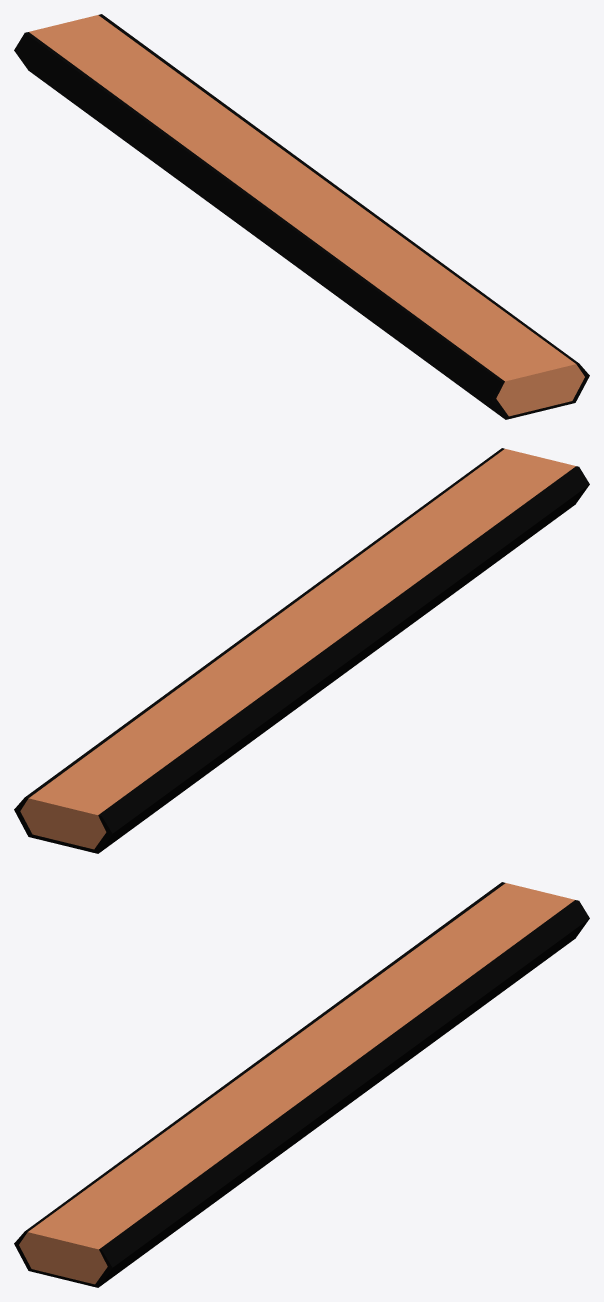
File: Wood bridge.fbx
3 views of the same model, one above another, from view 1: azimuth 30°, elevation 25°; view 2: azimuth 150°, elevation 25°; view 3: azimuth 330°, elevation 25° (orthographic).
Parts seen in each view (by area): view 1: Cylinder; view 2: Cylinder; view 3: Cylinder.
Boxes of the visible parts, x1,y1,x2,y2 form: Cylinder: [14, 14, 589, 419]; Cylinder: [14, 448, 589, 853]; Cylinder: [14, 882, 589, 1287].
Bounding box in the file's own units: 306 × 115 × 2565.
